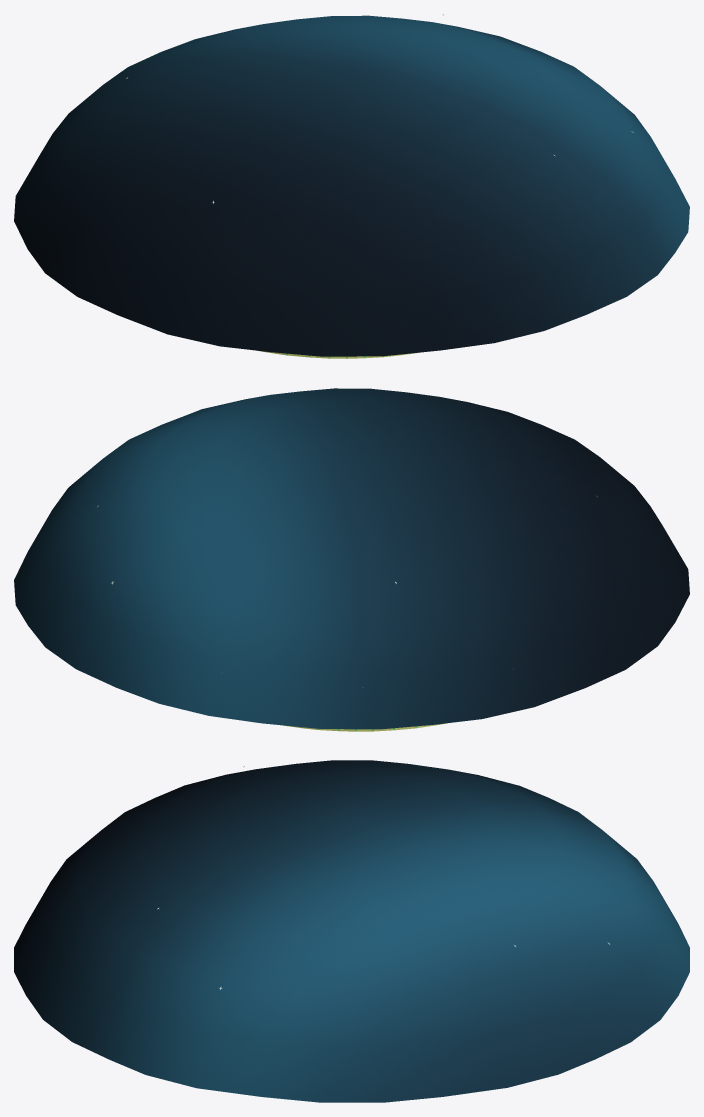
Rendered from Arena.fbx.
The picture shows the model from 3 angles, top to bottom: view 1: azimuth 30°, elevation 25°; view 2: azimuth 150°, elevation 25°; view 3: azimuth 270°, elevation 25°; orthographic projection.
Visible parts, largest first — view 1: Steven Universe - Stronger then you; view 2: Steven Universe - Stronger then you; view 3: Steven Universe - Stronger then you.
Part boxes in pixels (x1,y1,x2,y2): Steven Universe - Stronger then you: (14,14,689,358); Steven Universe - Stronger then you: (14,388,689,731); Steven Universe - Stronger then you: (14,760,689,1102).
Size of the model in its own units: 347859 by 97890 by 348007.
